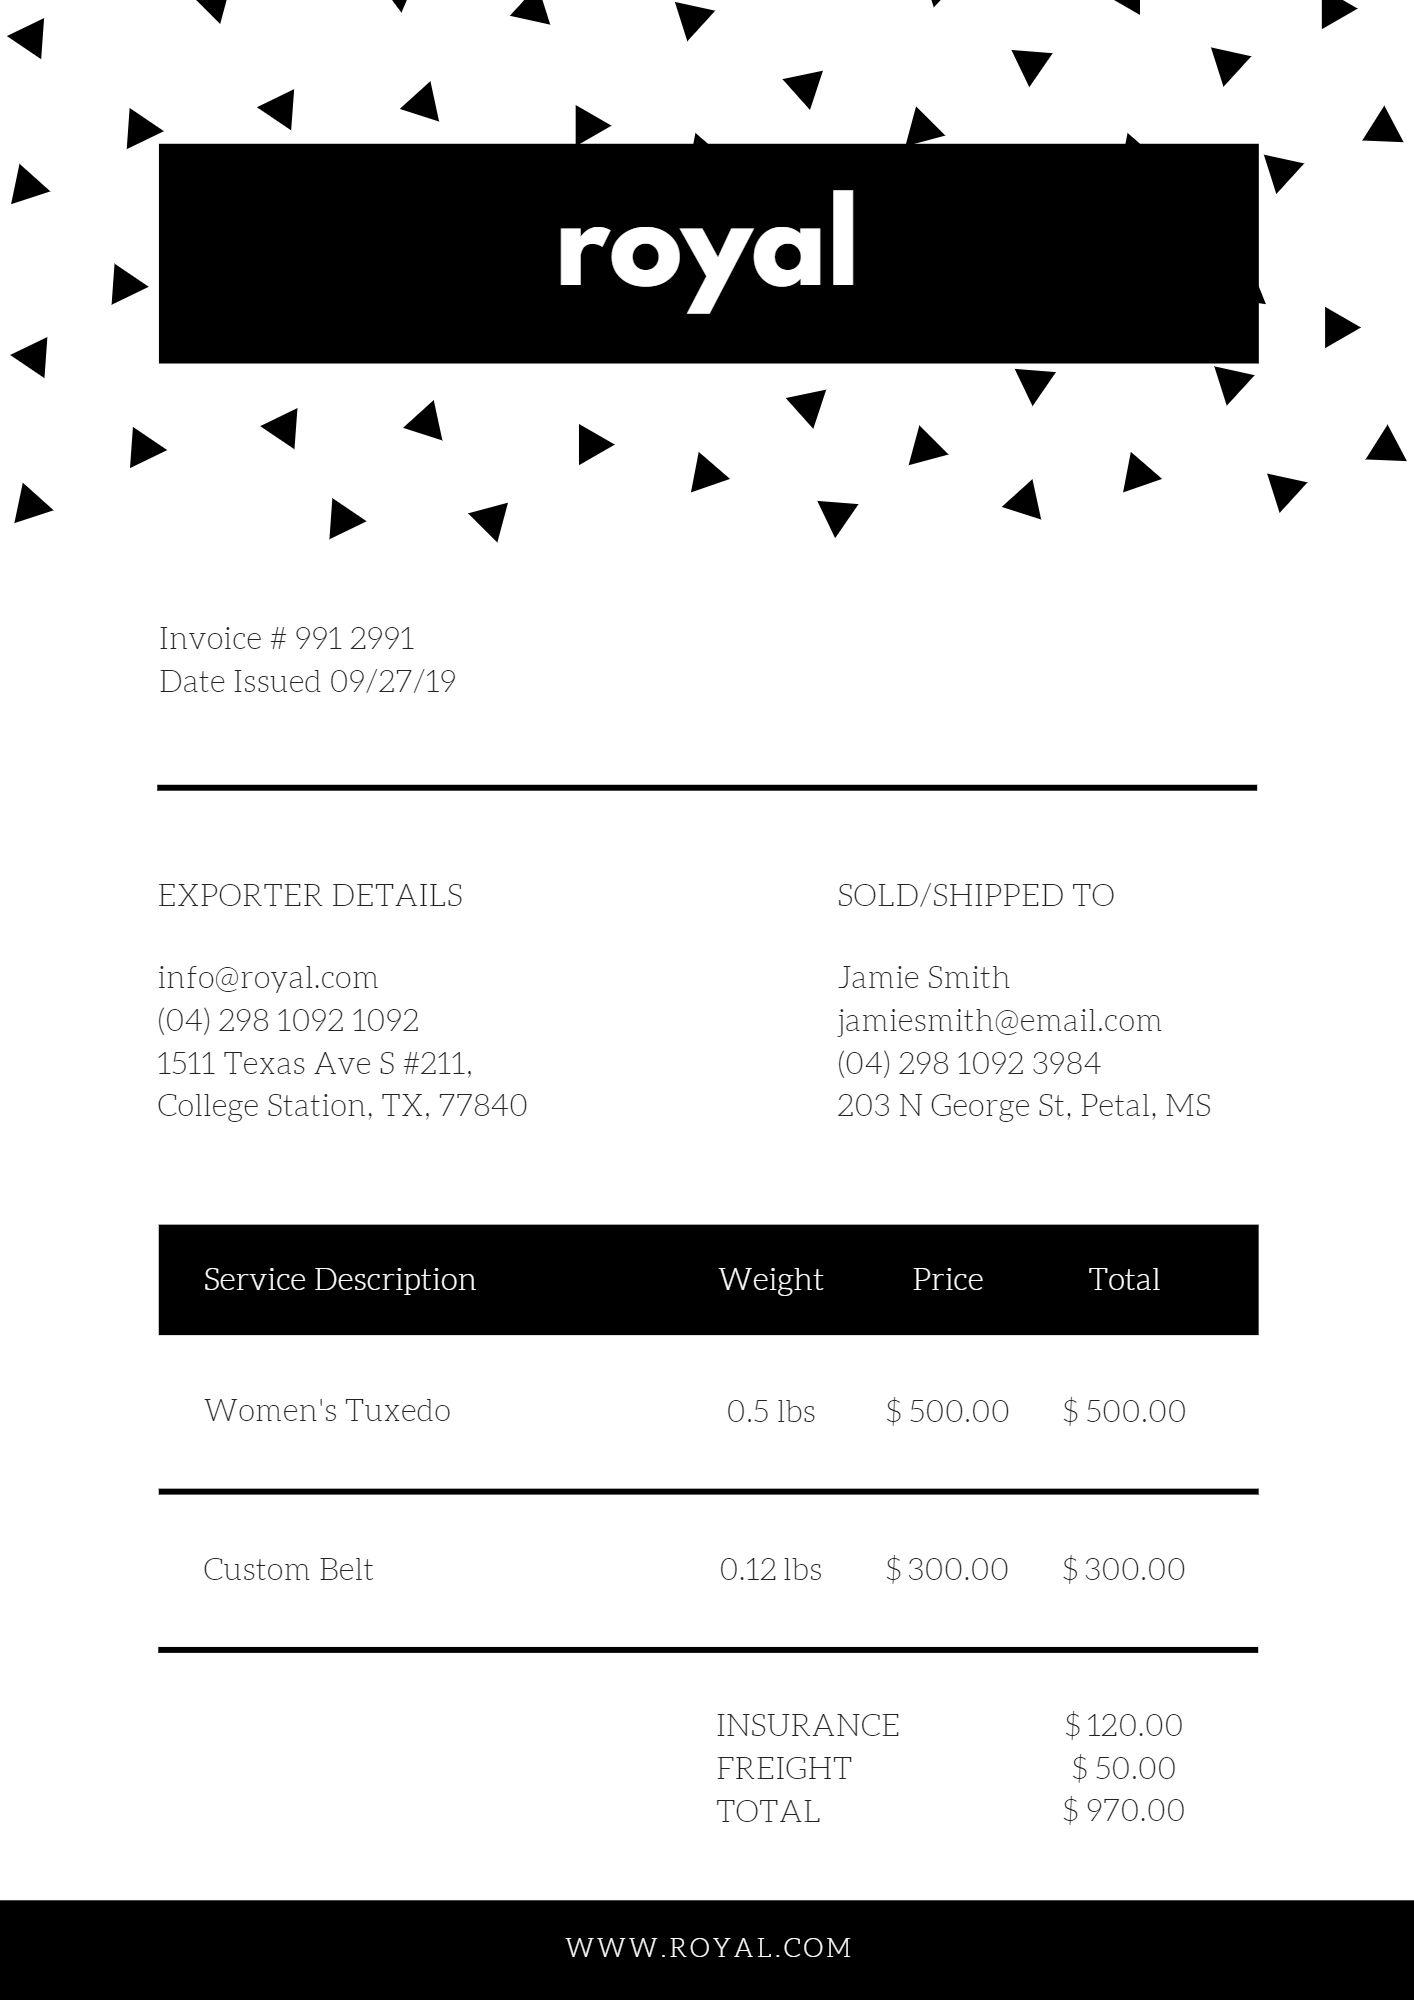ROI: (176, 1217, 1252, 1660)
